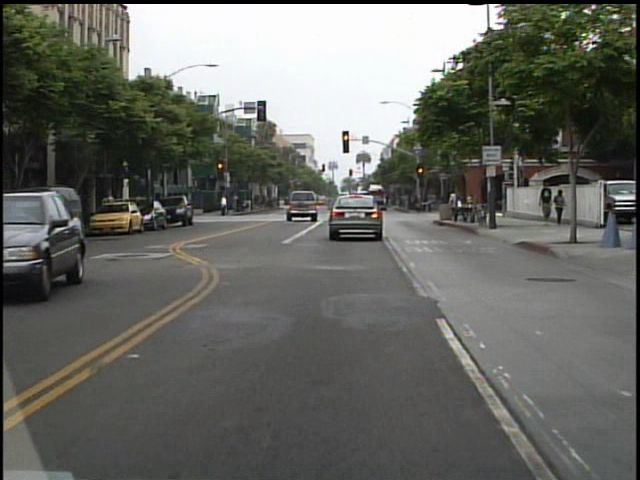person: (536, 182, 554, 226), (444, 187, 464, 225), (551, 187, 567, 228), (217, 190, 231, 217)
